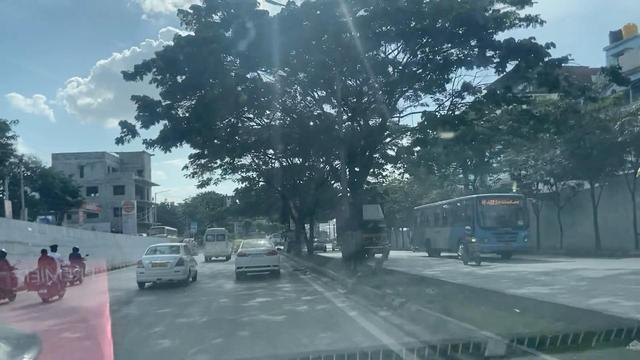HMV: (206, 228, 227, 257)
LMV: (135, 242, 197, 288), (32, 247, 64, 300), (236, 239, 280, 275), (67, 242, 93, 281)
